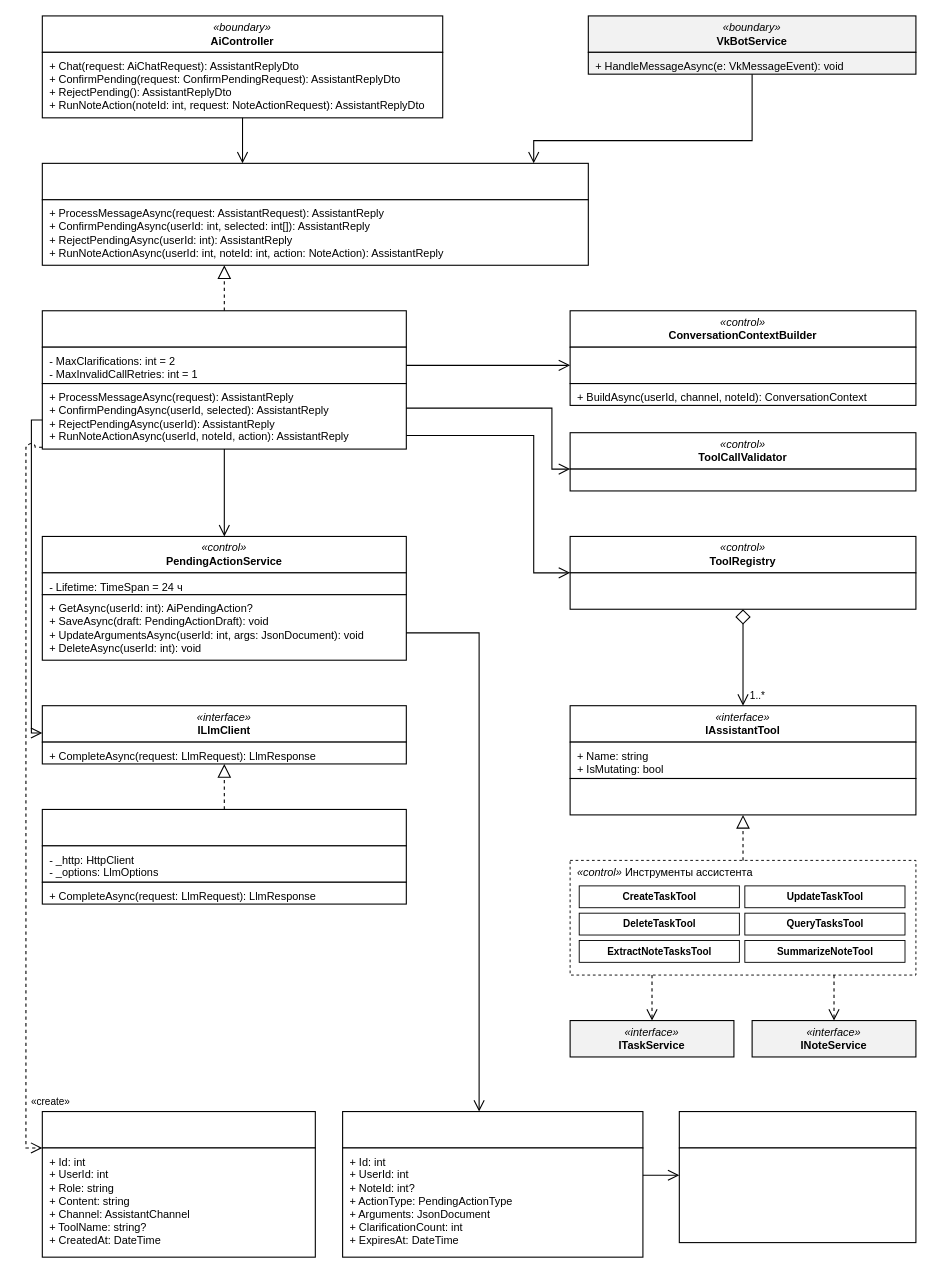
Image size: 933x1274. Some labels were removed from this diagram. The centre of each missing label's shape, as x and y in pixels:
+ DescribeAsync(args): ConfirmationCard + ExecuteAsync(args, userId): ToolResult: point (742, 796)
+ GetDefinitions(): ToolDefinition[] + Resolve(name: string): IAssistantTool: point (742, 590)
+ ValidateAsync(call: ToolCall, userId: int): ValidationResult: point (742, 479)
- MaxTasks: int = 25 - MaxNoteChars: int = 12000: point (742, 365)
CreateTask CreateTasks UpdateTask DeleteTask CreateNote AppendNote: point (797, 1195)
«boundary» LlmClient: point (223, 827)
«control» AiAssistantService: point (223, 328)
«entity» AiConversationHistory: point (178, 1129)
«entity» AiPendingAction: point (492, 1129)
«enumeration» PendingActionType: point (797, 1129)
«interface» IAiAssistantService: point (314, 181)
